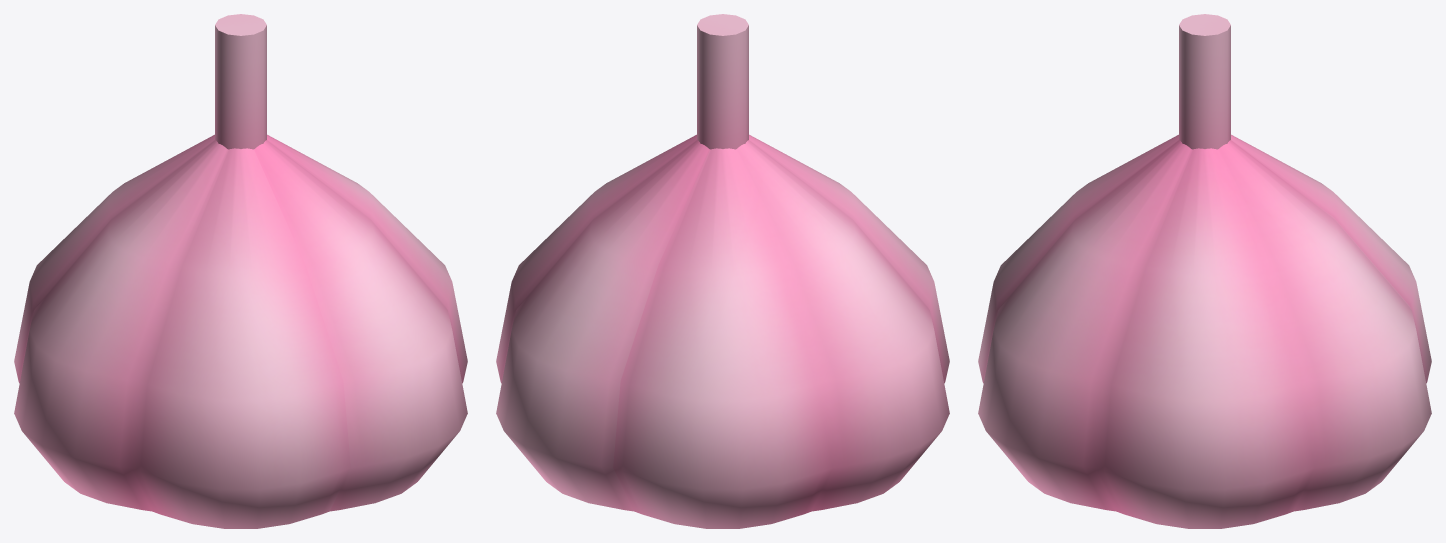
The model's file is garlic.FBX.
3 renders of one model, left to right at view 1: azimuth 30°, elevation 25°; view 2: azimuth 150°, elevation 25°; view 3: azimuth 270°, elevation 25°, orthographic.
Parts seen in each view (by area): view 1: garlic; view 2: garlic; view 3: garlic.
Boxes of the visible parts, box(x1,y1,x2,y2) form: garlic: box(14, 14, 467, 528); garlic: box(496, 14, 949, 528); garlic: box(978, 14, 1431, 528).
Size of the model in its own units: 33.01 by 34.01 by 31.02.
